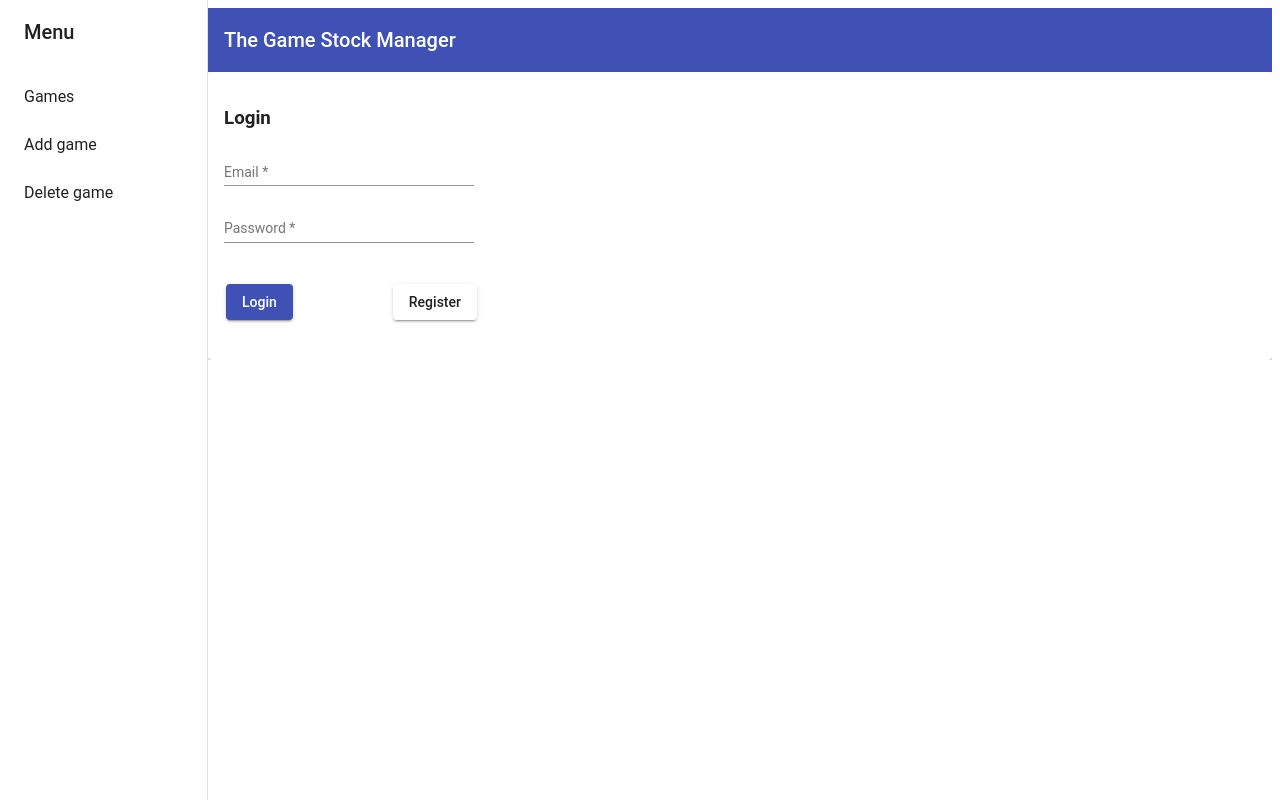
it: register test › failed user exists
Step 1. Click the button with test id "register-button" → (435, 302), box [393,284,477,320]
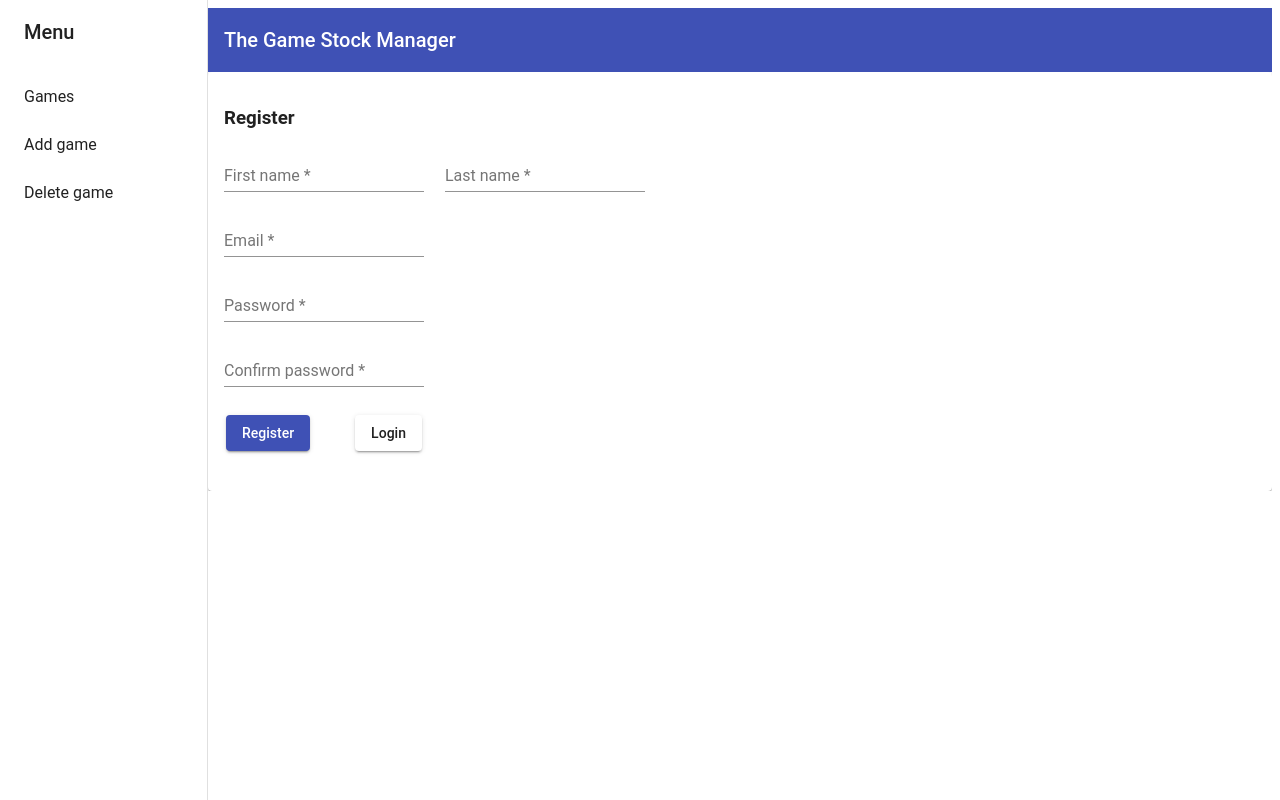
Step 2. Type "Jens" into the field with test id "register-firstname" → (324, 176), box [224,167,424,185]
Step 3. Type "Vanhee" into the field with test id "register-lastname" → (545, 176), box [445,167,645,185]
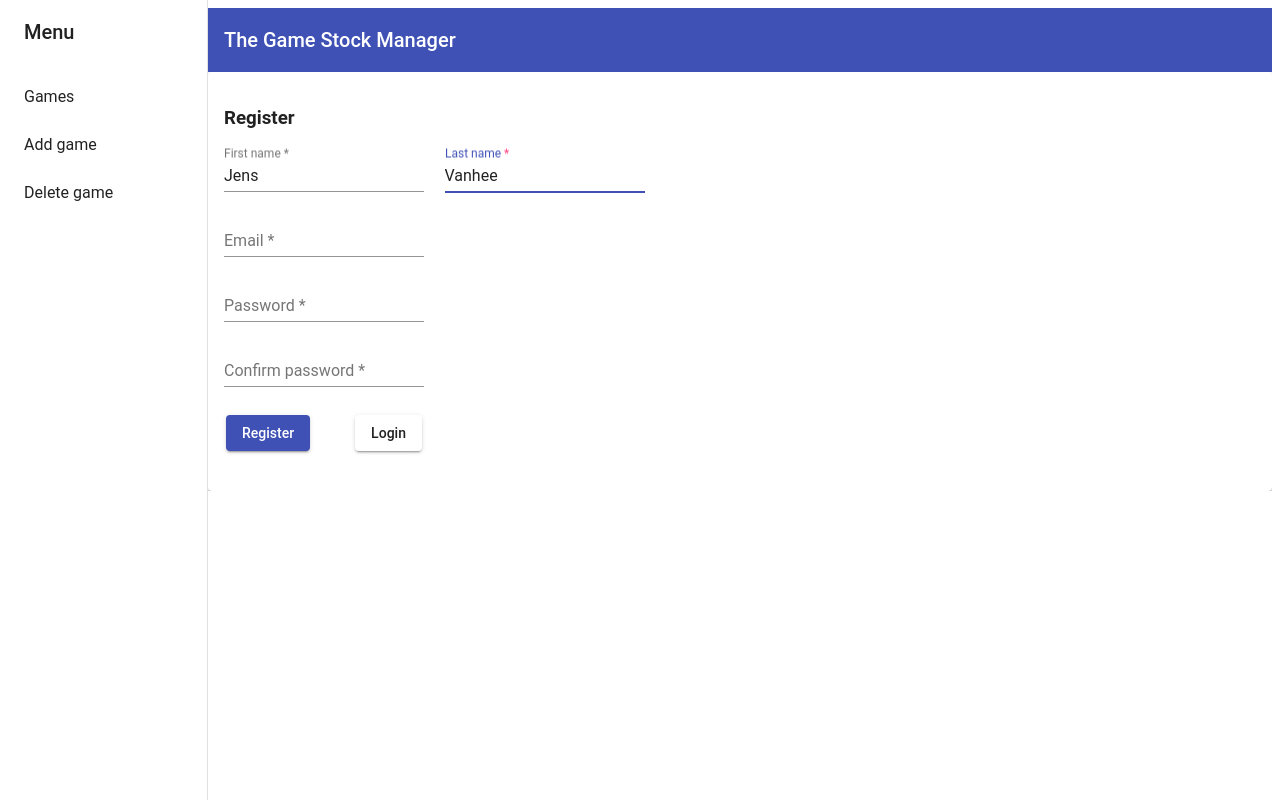
Step 4. Type "Jens-Vanhee@hotmail.com" into the field with test id "register-email" → (324, 241), box [224,232,424,250]
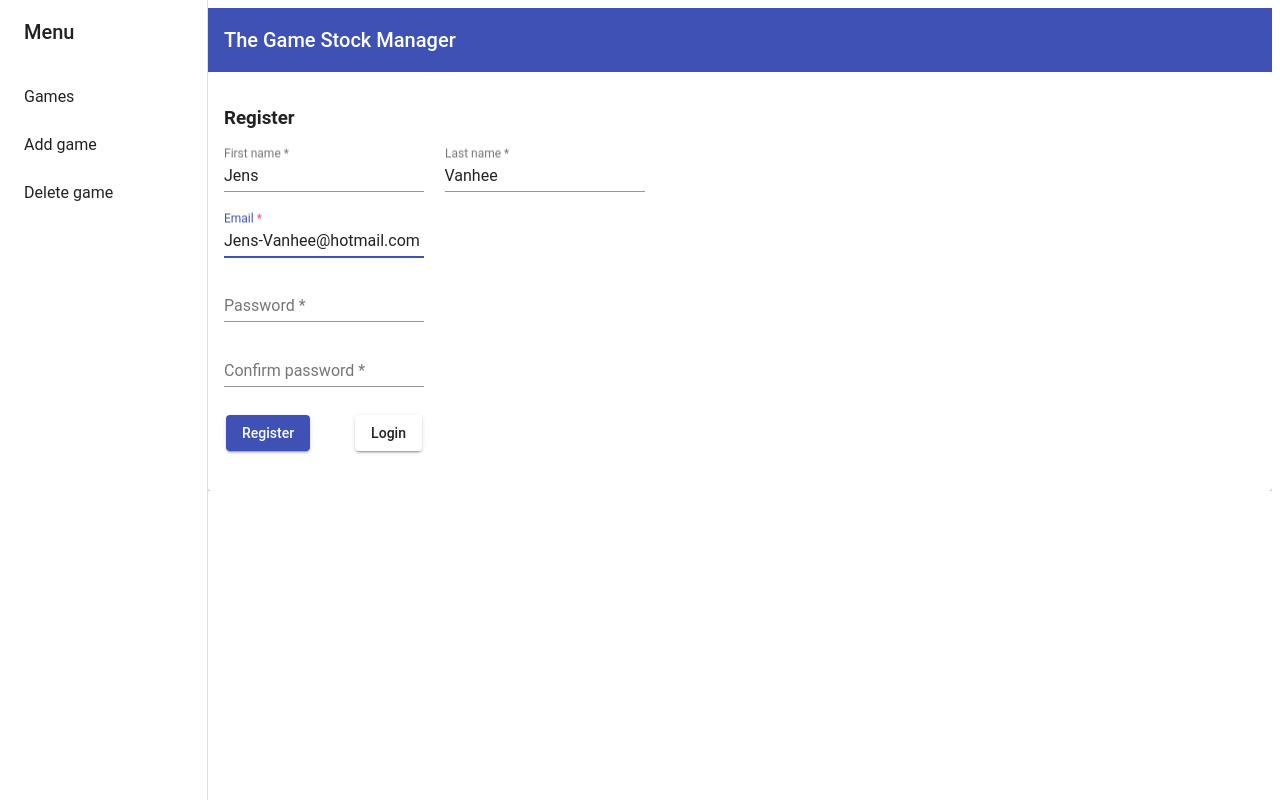
Step 5. Type "P@ssword123" into the password field with test id "register-password" → (324, 306), box [224,297,424,315]
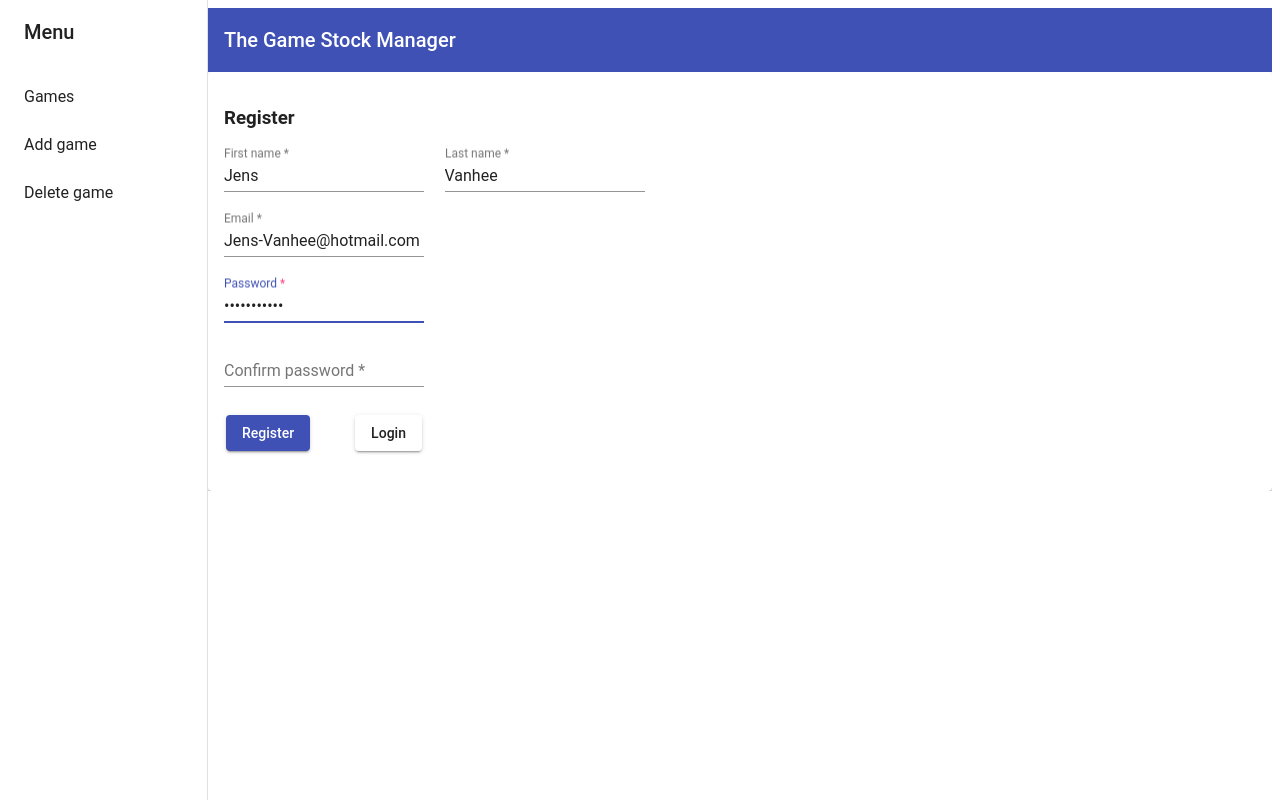
Step 6. Type "P@ssword123" into the password field with test id "register-confirm-password" → (324, 371), box [224,362,424,380]
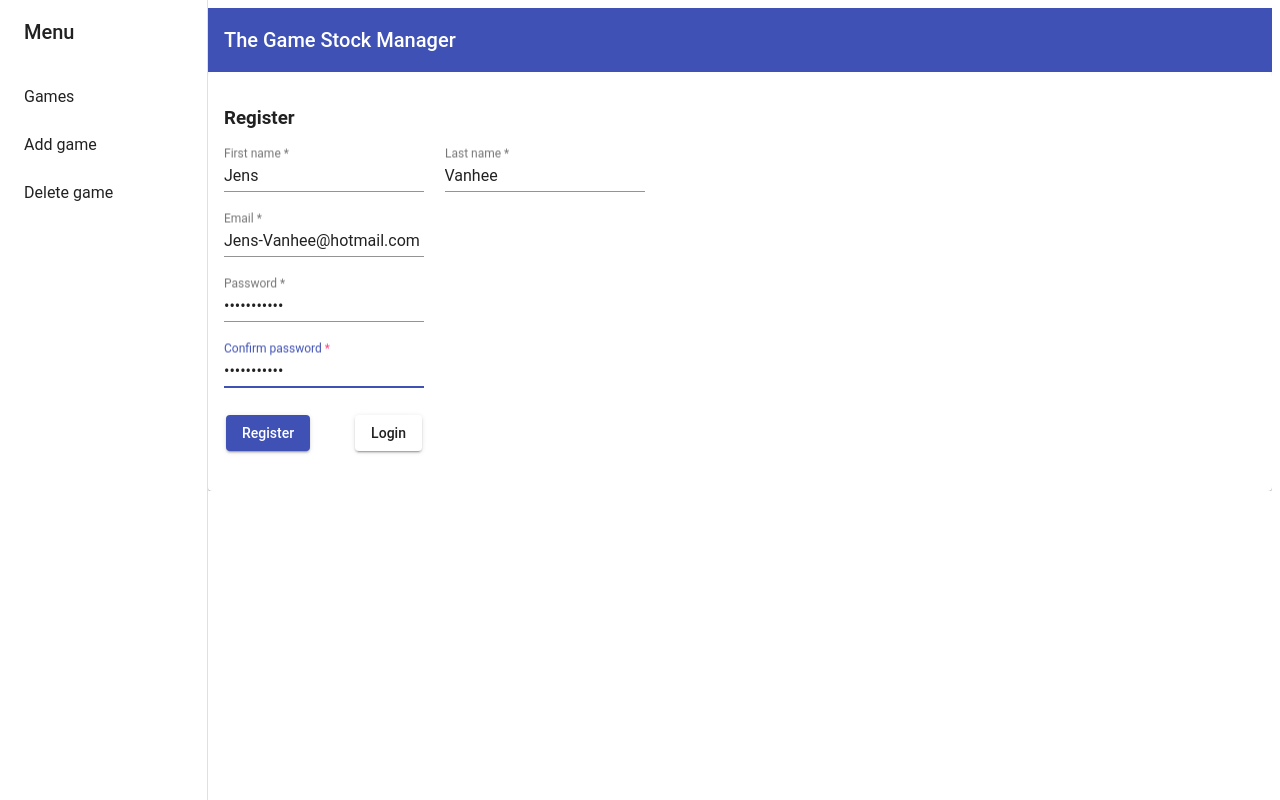
Step 7. Click the button with test id "register-button" → (268, 433), box [226,415,310,451]
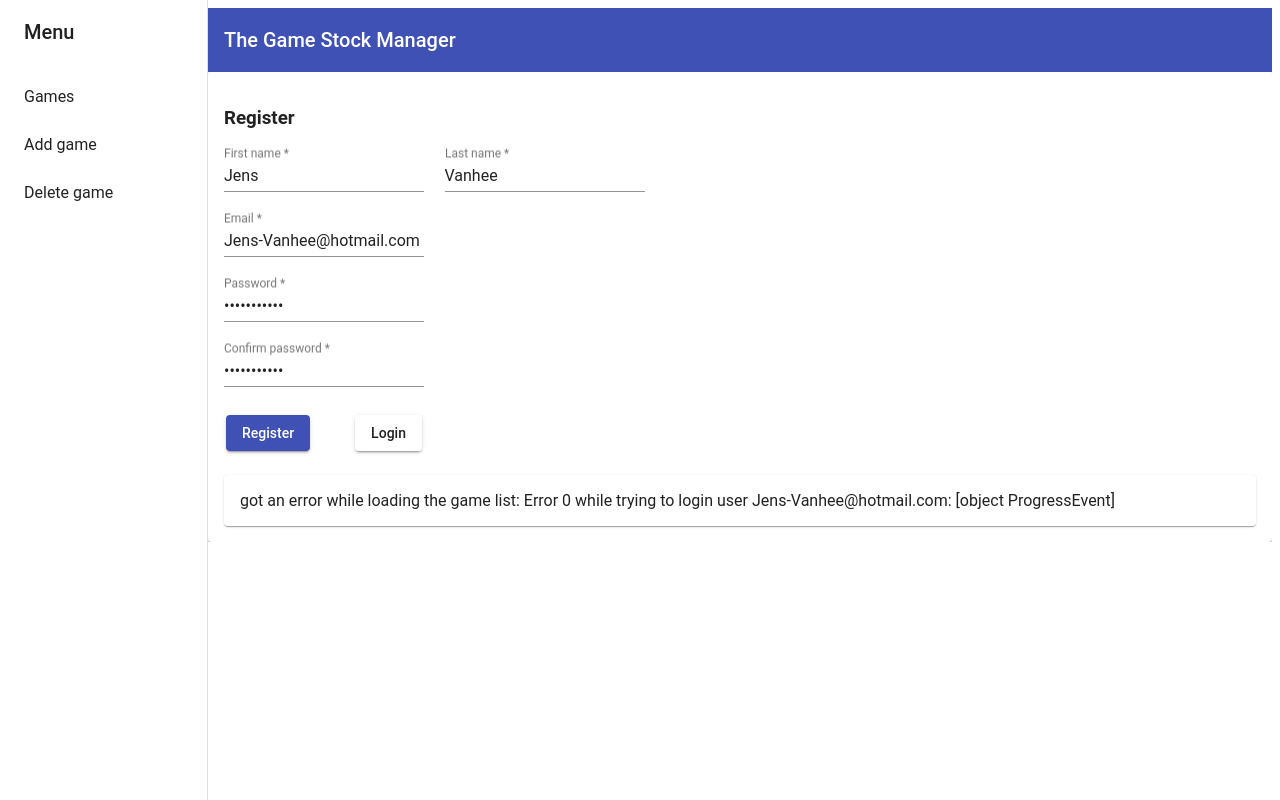
Now the text with test id "appError" is shown, box [224,475,1256,526]
